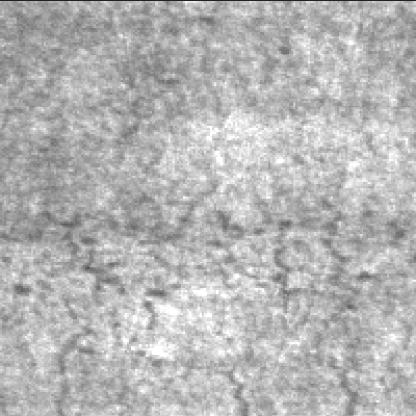crazing: (40, 196, 202, 414), (223, 190, 382, 410)
